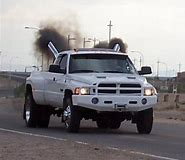smoke: (31, 25, 69, 57), (99, 34, 132, 53)
